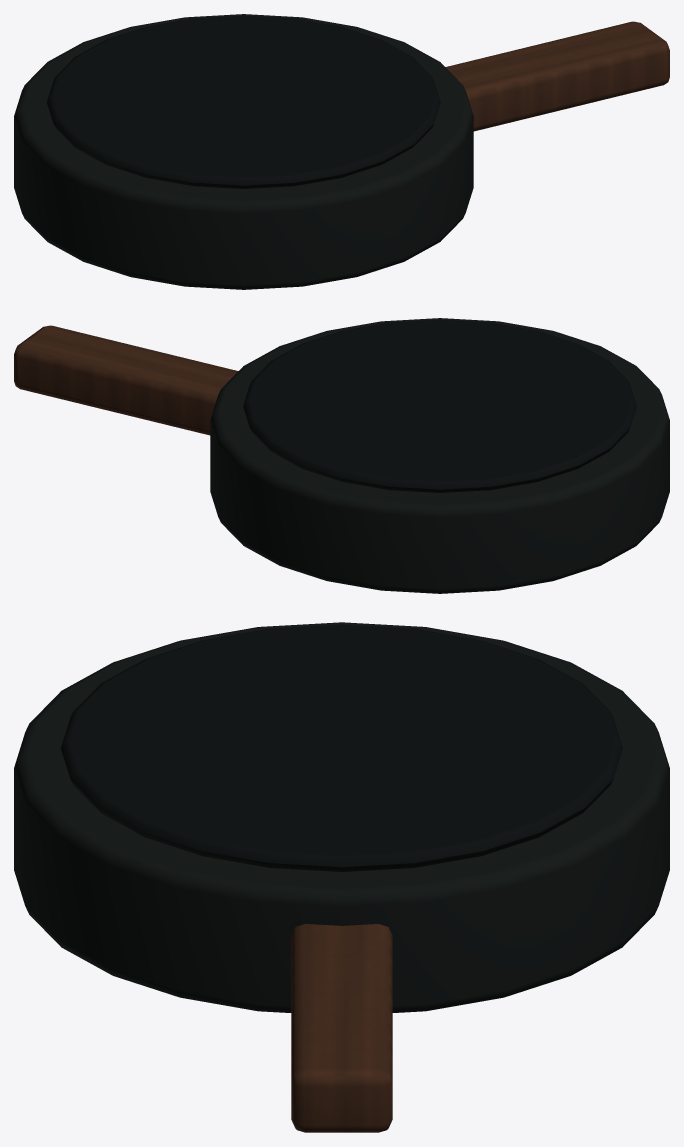
File: pan.glb
3 views of the same model, one above another, from view 1: azimuth 30°, elevation 25°; view 2: azimuth 150°, elevation 25°; view 3: azimuth 270°, elevation 25° (orthographic). The views are drawn at different scales.
Visible parts, largest first — view 1: V2_pan_metal.005, V2_pan_dark.005, V2_pan_walnut.005; view 2: V2_pan_metal.005, V2_pan_dark.005, V2_pan_walnut.005; view 3: V2_pan_dark.005, V2_pan_metal.005, V2_pan_walnut.005.
Part boxes in pixels (left/top/right/bottom): V2_pan_metal.005: left=14, top=14, right=473, bottom=289; V2_pan_dark.005: left=47, top=15, right=440, bottom=188; V2_pan_walnut.005: left=445, top=21, right=669, bottom=131; V2_pan_metal.005: left=210, top=318, right=669, bottom=593; V2_pan_dark.005: left=243, top=319, right=636, bottom=492; V2_pan_walnut.005: left=14, top=325, right=238, bottom=435; V2_pan_dark.005: left=61, top=624, right=622, bottom=871; V2_pan_metal.005: left=14, top=622, right=669, bottom=1012; V2_pan_walnut.005: left=291, top=924, right=392, bottom=1132.
Bounding box in the file's own units: 0.645 × 0.101 × 0.42.
3 materials, 1 textured.
